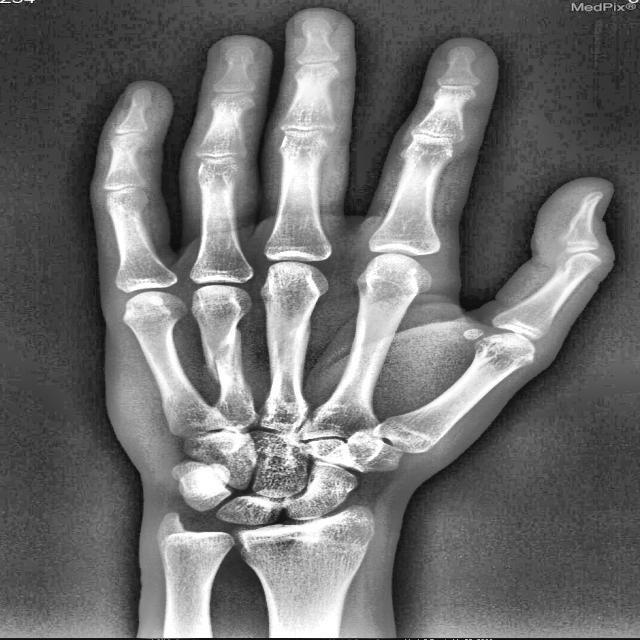fracture: (208, 328, 240, 383)
